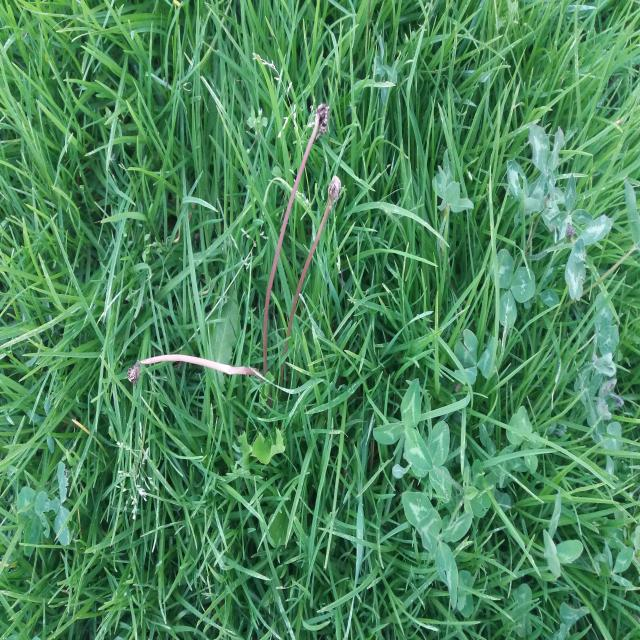Four Leaf Clover: (402, 491, 472, 608)
